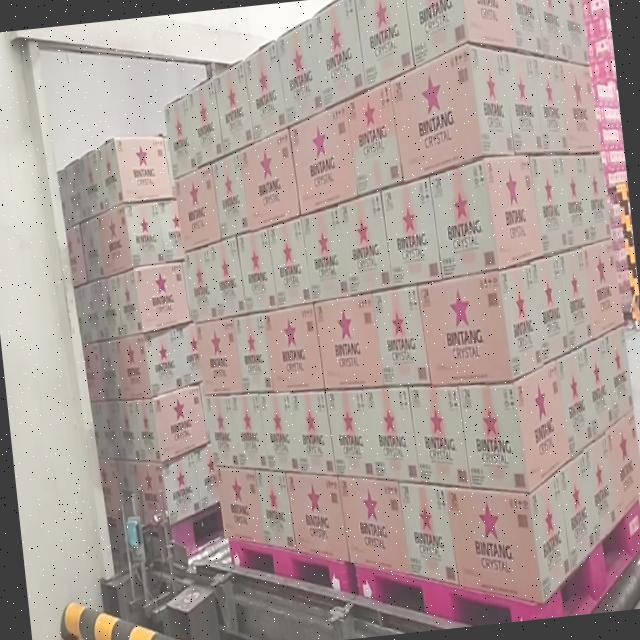pallet: (287, 0, 640, 638), (152, 17, 356, 619), (46, 121, 232, 574)
